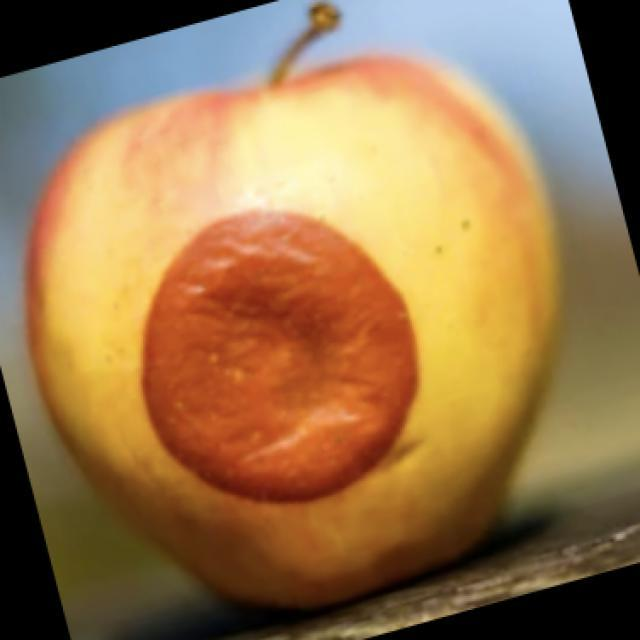Rotten: (22, 65, 565, 593)
